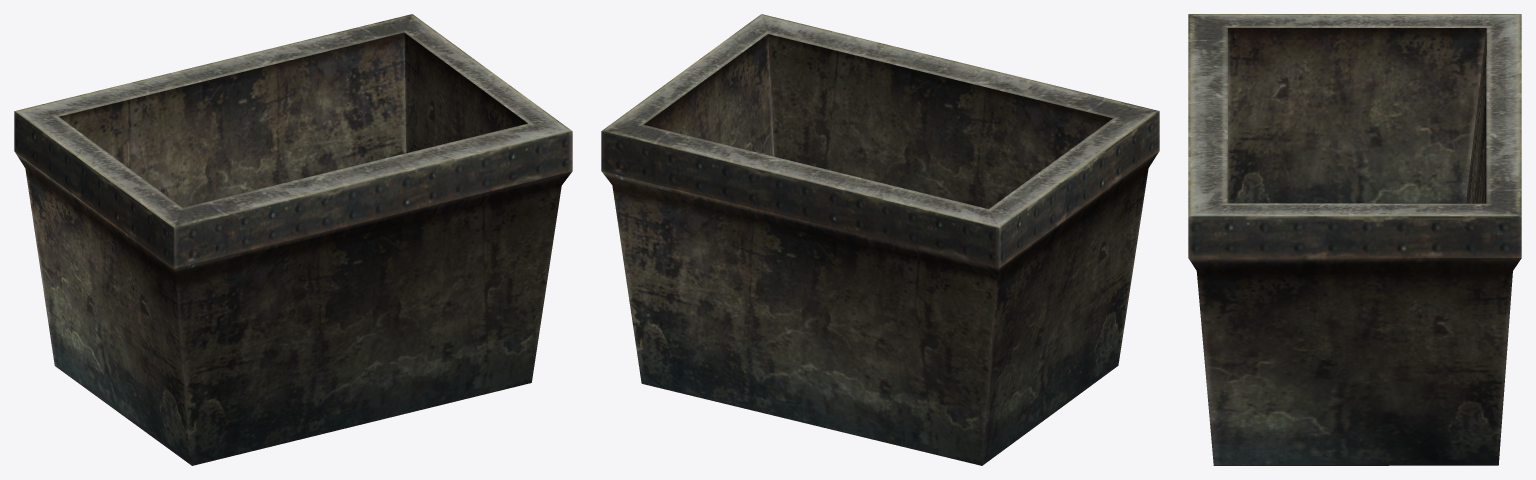
The model's file is fortms_box_smithy00.fbx.
3 renders of one model, left to right at view 1: azimuth 30°, elevation 25°; view 2: azimuth 150°, elevation 25°; view 3: azimuth 270°, elevation 25°, orthographic. The views are drawn at different scales.
Visible parts, largest first — view 1: fortms_box_smithy00; view 2: fortms_box_smithy00; view 3: fortms_box_smithy00.
Boxes of the visible parts, x1,y1,x2,y2 form: fortms_box_smithy00: [14, 14, 572, 465]; fortms_box_smithy00: [601, 14, 1159, 465]; fortms_box_smithy00: [1188, 14, 1521, 465].
Bounding box in the file's own units: 1.84 × 1.12 × 1.28.
